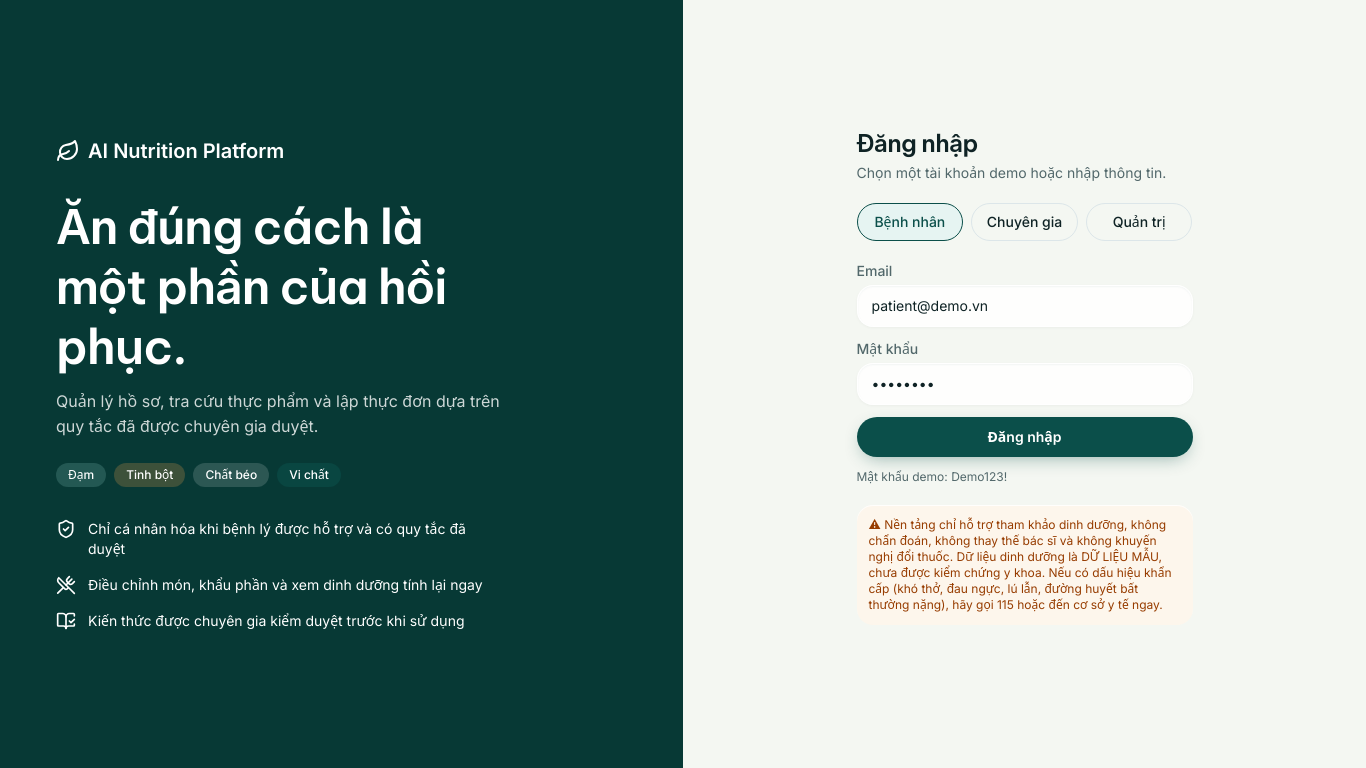
Test: UI › shows an error for a wrong password
In the password field labelled "Mật khẩu": (1024, 384) [856,363,1192,405], type "Sai12345!"
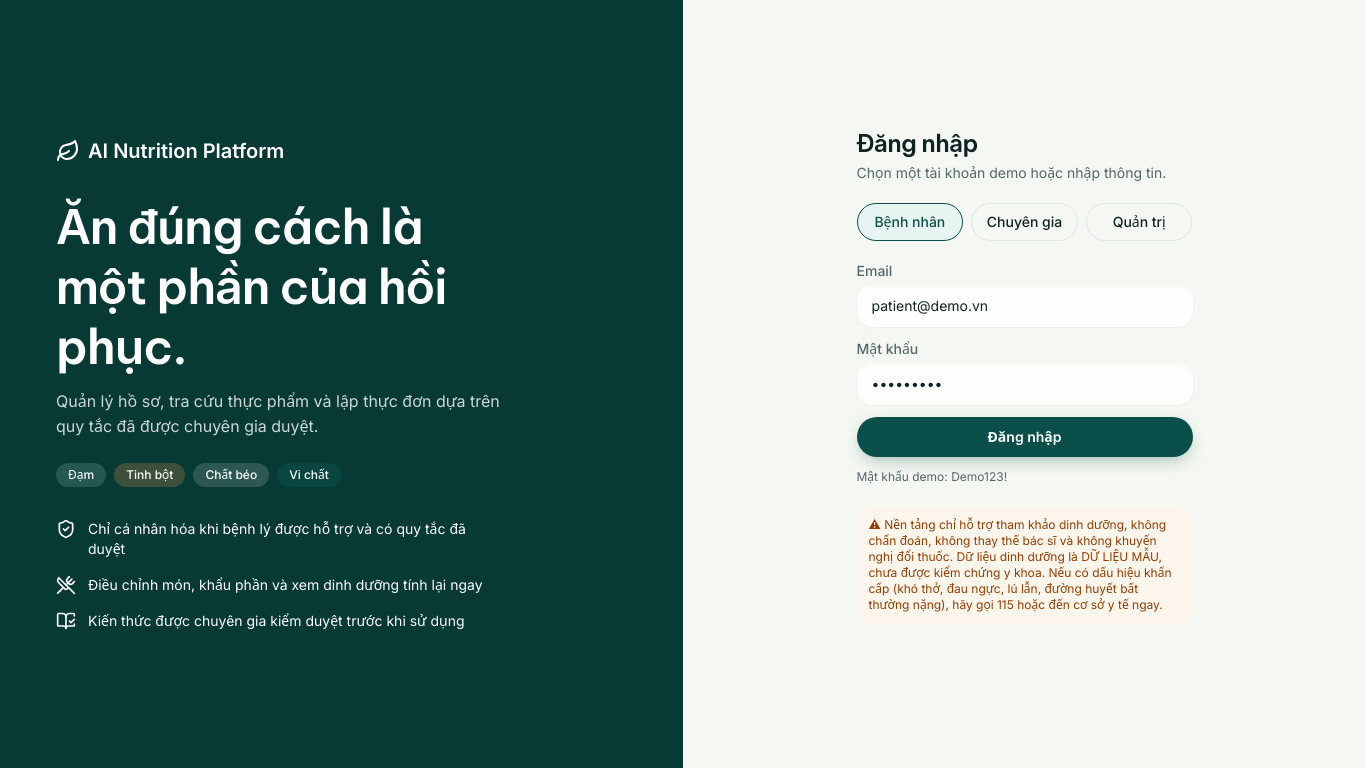
Click the button "Đăng nhập": (1024, 437) [856,417,1192,457]
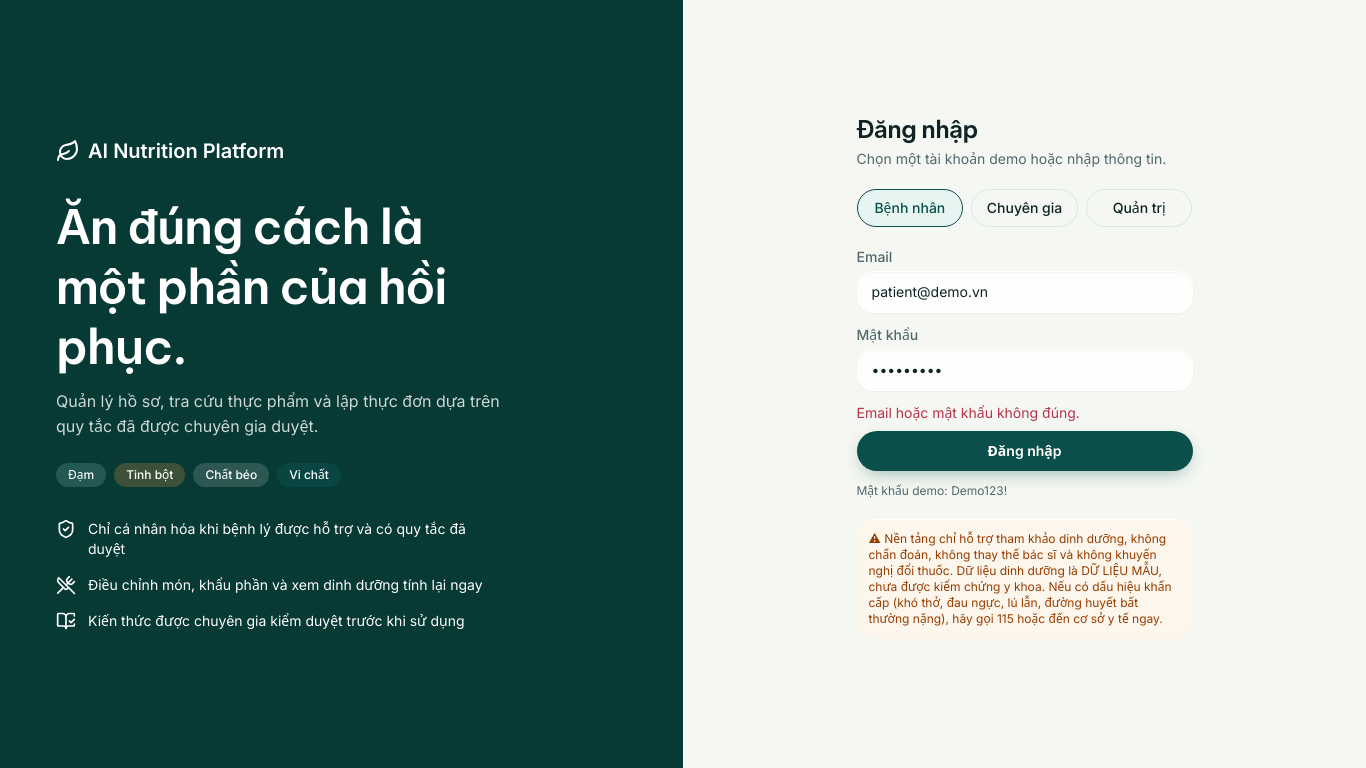
Expected: the message shows "không đúng", [856,404,1080,421]
